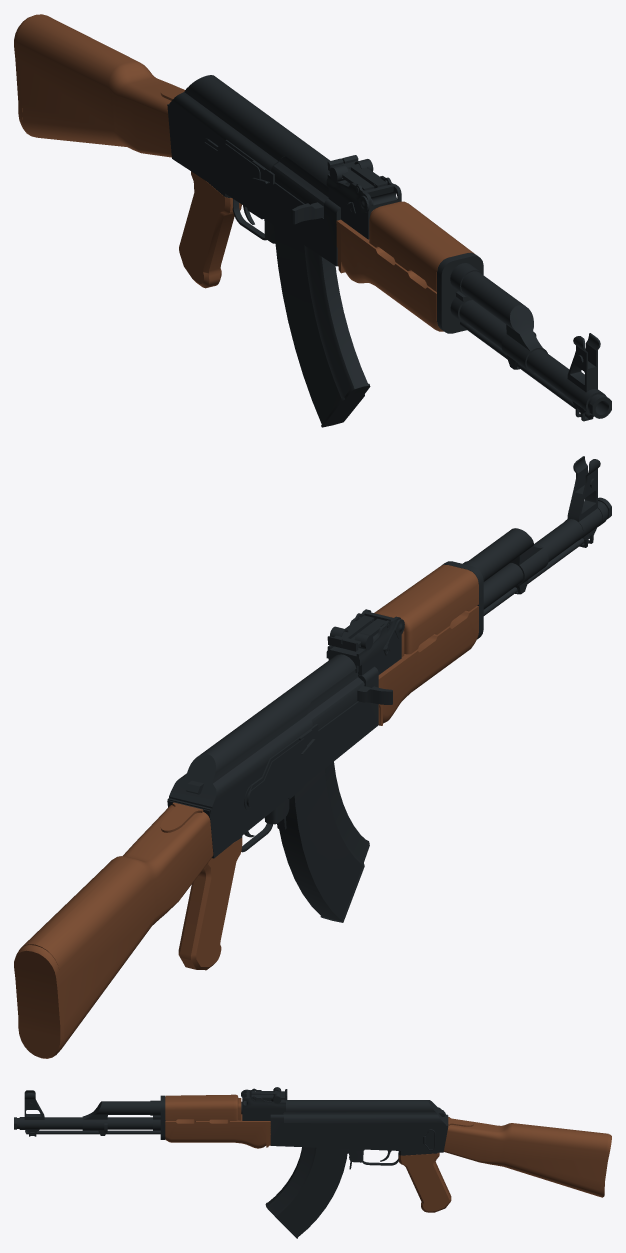
File: carbine.glb
3 renders of one model, top to bottom at view 1: azimuth 30°, elevation 25°; view 2: azimuth 150°, elevation 25°; view 3: azimuth 270°, elevation 25°, orthographic. The views are drawn at different scales.
Parts seen in each view (by area): view 1: buttstock_wood_low002, magazine_low002, gas_tube_low002, reciever_upper_low002, reciever_down_low002, handguard_upper_low002, handguard_down_low002, grip_wooden_low002, bolt_carrier_low002, rear_sight_block_low002, front_sight_low002, reciever_switch_low002 (+3 smaller); view 2: buttstock_wood_low002, reciever_upper_low002, magazine_low002, reciever_down_low002, gas_tube_low002, buttstock_metal_low002, grip_wooden_low002, handguard_upper_low002, handguard_down_low002, bolt_carrier_low002, front_sight_low002, rear_sight_block_low002 (+2 smaller); view 3: buttstock_wood_low002, reciever_upper_low002, magazine_low002, reciever_down_low002, gas_tube_low002, handguard_down_low002, grip_wooden_low002, handguard_upper_low002, rear_sight_block_low002, front_sight_low002, cleaning_rod_low002, trigger_guard_low002 (+2 smaller).
Boxes of the visible parts, x1=… form: buttstock_wood_low002: x1=17, y1=14, x2=184, y2=157; magazine_low002: x1=274, y1=225, x2=370, y2=427; gas_tube_low002: x1=437, y1=252, x2=611, y2=418; reciever_upper_low002: x1=168, y1=75, x2=330, y2=185; reciever_down_low002: x1=167, y1=104, x2=340, y2=266; handguard_upper_low002: x1=372, y1=203, x2=474, y2=291; handguard_down_low002: x1=341, y1=223, x2=443, y2=331; grip_wooden_low002: x1=179, y1=171, x2=241, y2=288; bolt_carrier_low002: x1=270, y1=156, x2=328, y2=224; rear_sight_block_low002: x1=326, y1=174, x2=401, y2=239; front_sight_low002: x1=562, y1=333, x2=600, y2=421; reciever_switch_low002: x1=201, y1=138, x2=274, y2=184; buttstock_wood_low002: x1=19, y1=805, x2=213, y2=1052; reciever_upper_low002: x1=167, y1=654, x2=356, y2=813; magazine_low002: x1=279, y1=761, x2=369, y2=922; reciever_down_low002: x1=167, y1=666, x2=378, y2=858; gas_tube_low002: x1=441, y1=497, x2=611, y2=639; buttstock_metal_low002: x1=14, y1=944, x2=64, y2=1058; grip_wooden_low002: x1=178, y1=838, x2=242, y2=970; handguard_upper_low002: x1=376, y1=564, x2=478, y2=651; handguard_down_low002: x1=379, y1=606, x2=478, y2=723; bolt_carrier_low002: x1=307, y1=670, x2=392, y2=729; front_sight_low002: x1=565, y1=456, x2=602, y2=547; rear_sight_block_low002: x1=326, y1=609, x2=401, y2=675; buttstock_wood_low002: x1=443, y1=1118, x2=608, y2=1196; reciever_upper_low002: x1=284, y1=1100, x2=447, y2=1127; magazine_low002: x1=265, y1=1147, x2=349, y2=1238; reciever_down_low002: x1=270, y1=1113, x2=448, y2=1152; gas_tube_low002: x1=14, y1=1095, x2=165, y2=1139; handguard_down_low002: x1=165, y1=1114, x2=266, y2=1148; grip_wooden_low002: x1=398, y1=1152, x2=451, y2=1212; handguard_upper_low002: x1=165, y1=1094, x2=233, y2=1120; rear_sight_block_low002: x1=242, y1=1088, x2=285, y2=1120; front_sight_low002: x1=24, y1=1090, x2=44, y2=1136; cleaning_rod_low002: x1=25, y1=1130, x2=160, y2=1134; trigger_guard_low002: x1=349, y1=1150, x2=398, y2=1165.
Bounding box in the file's own units: 0.0668 × 0.2348 × 0.88.
